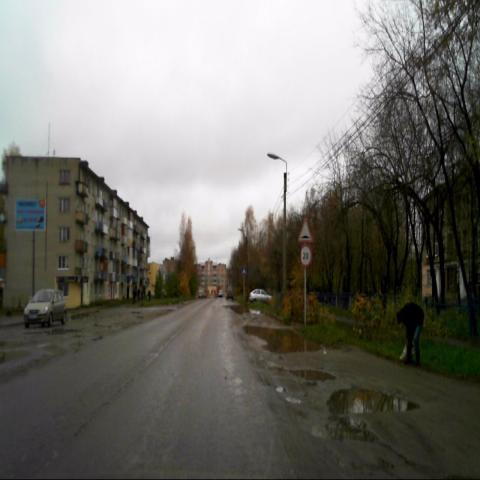3_24: (300, 244, 312, 267)
